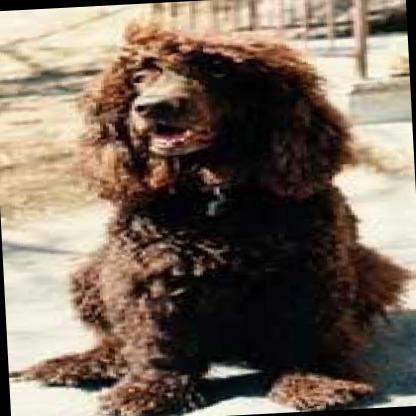Irish_water_spaniel: (0, 8, 416, 416)
